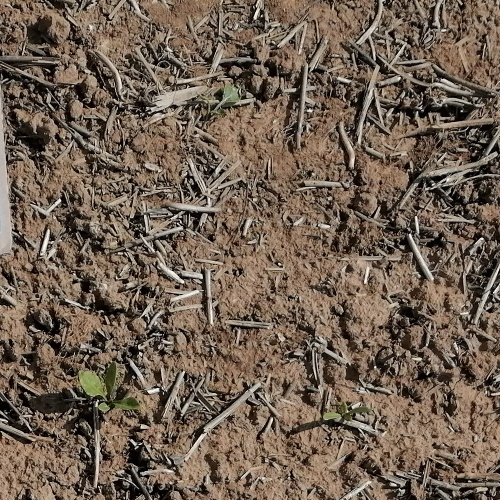beet: (81, 363, 137, 413), (325, 399, 372, 421)
